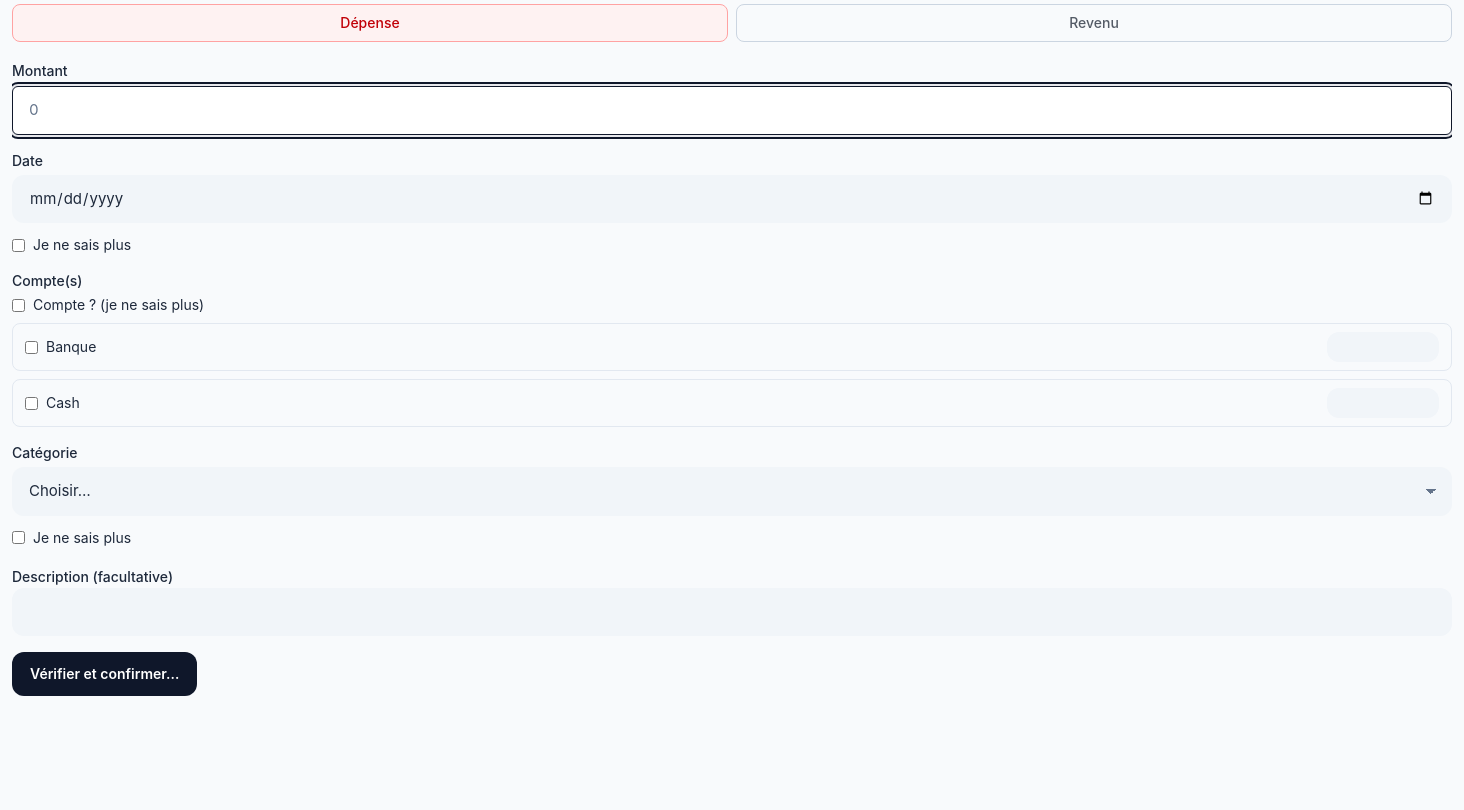
Test case: TransactionForm — activation d’une allocation de compte › réduire la part Banque puis cocher Cash pré-remplit le solde restant
Type "12000" into the field with placeholder "0" at (732, 110), box x1=12 y1=86 x2=1452 y2=134
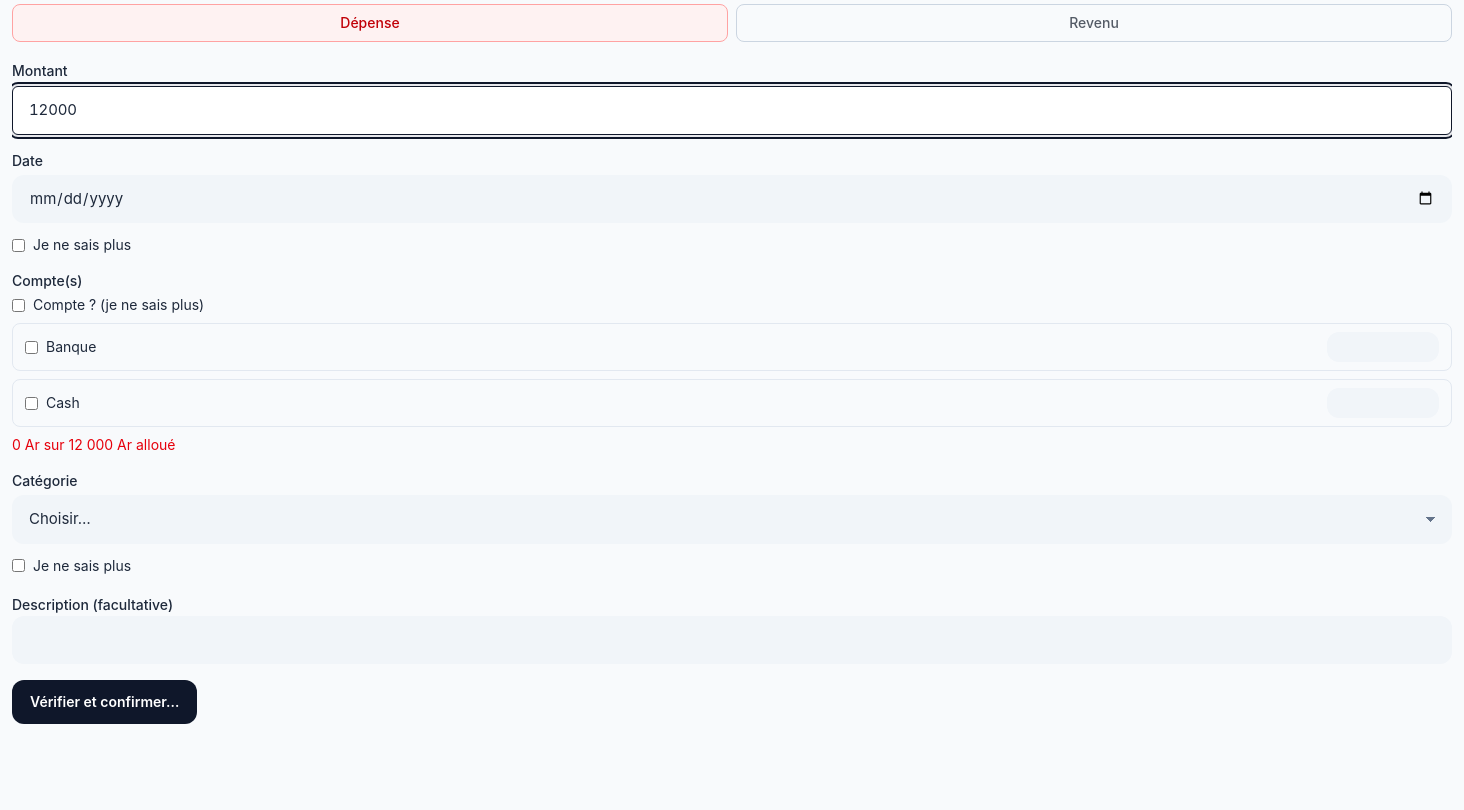
Click the checkbox named "Ajouter Banque" at (32, 347), box x1=25 y1=340 x2=38 y2=354
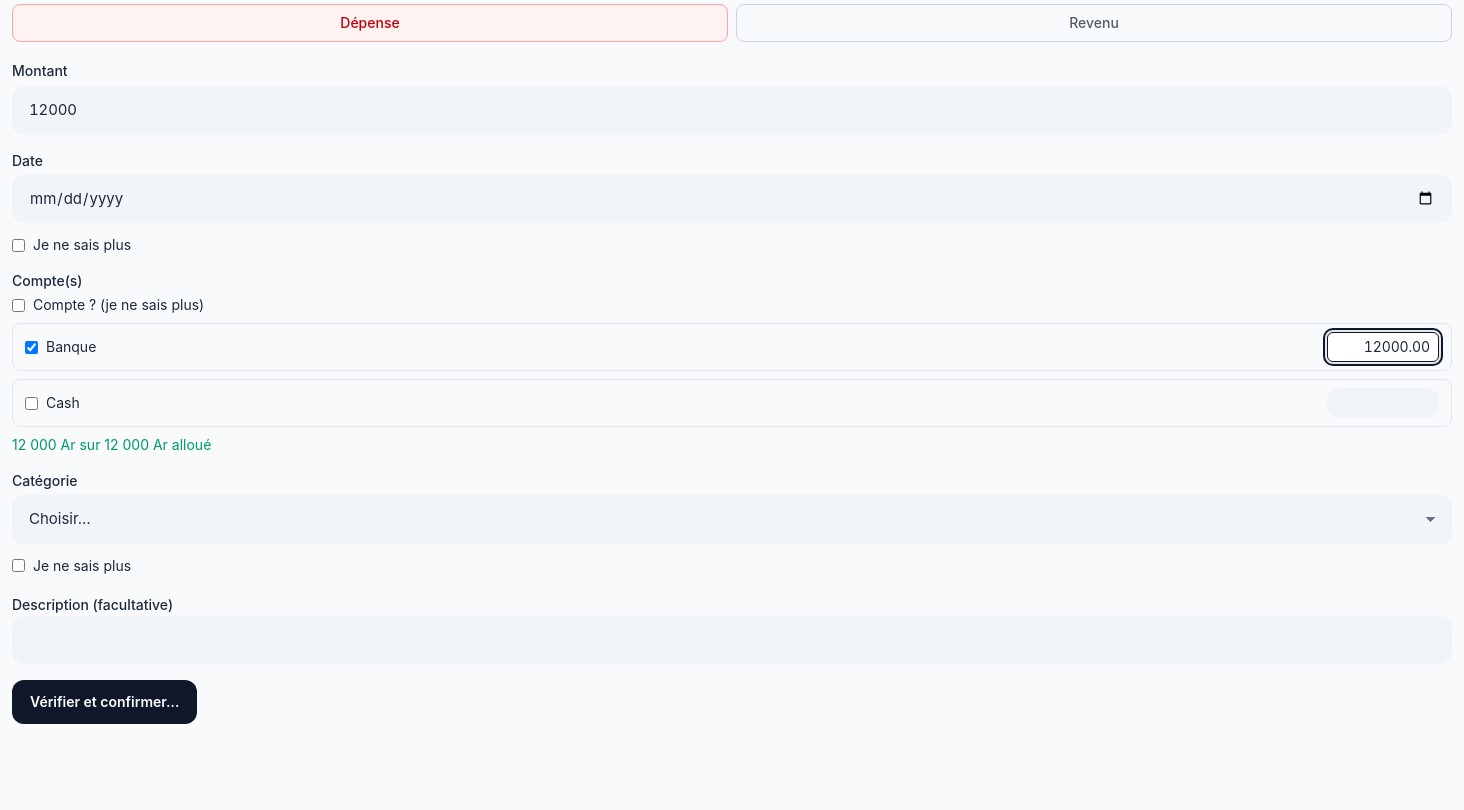
Type keys "{Control>}a{/Control}"
Type keys "6000"
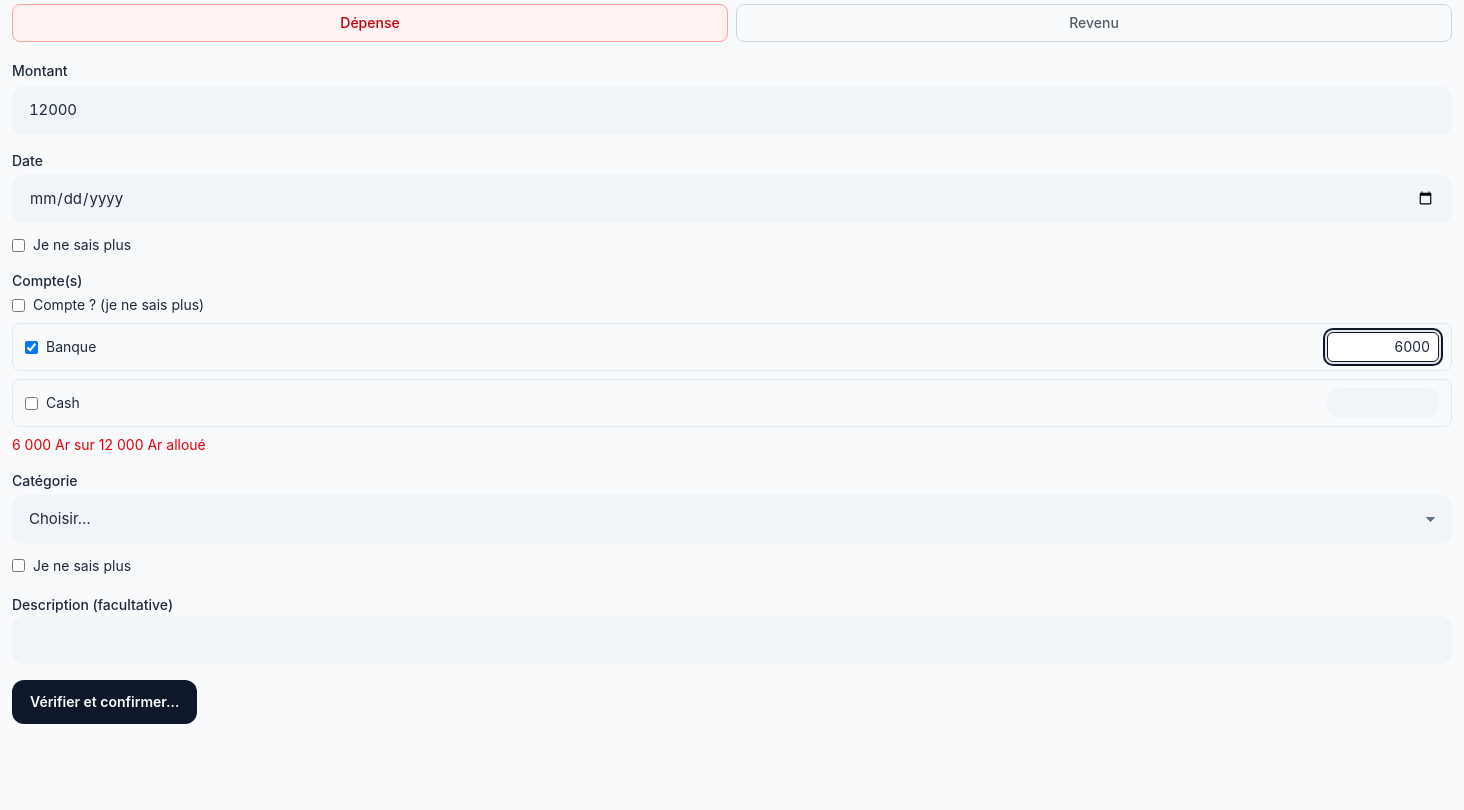
Click the checkbox named "Ajouter Cash" at (32, 403), box x1=25 y1=396 x2=38 y2=410
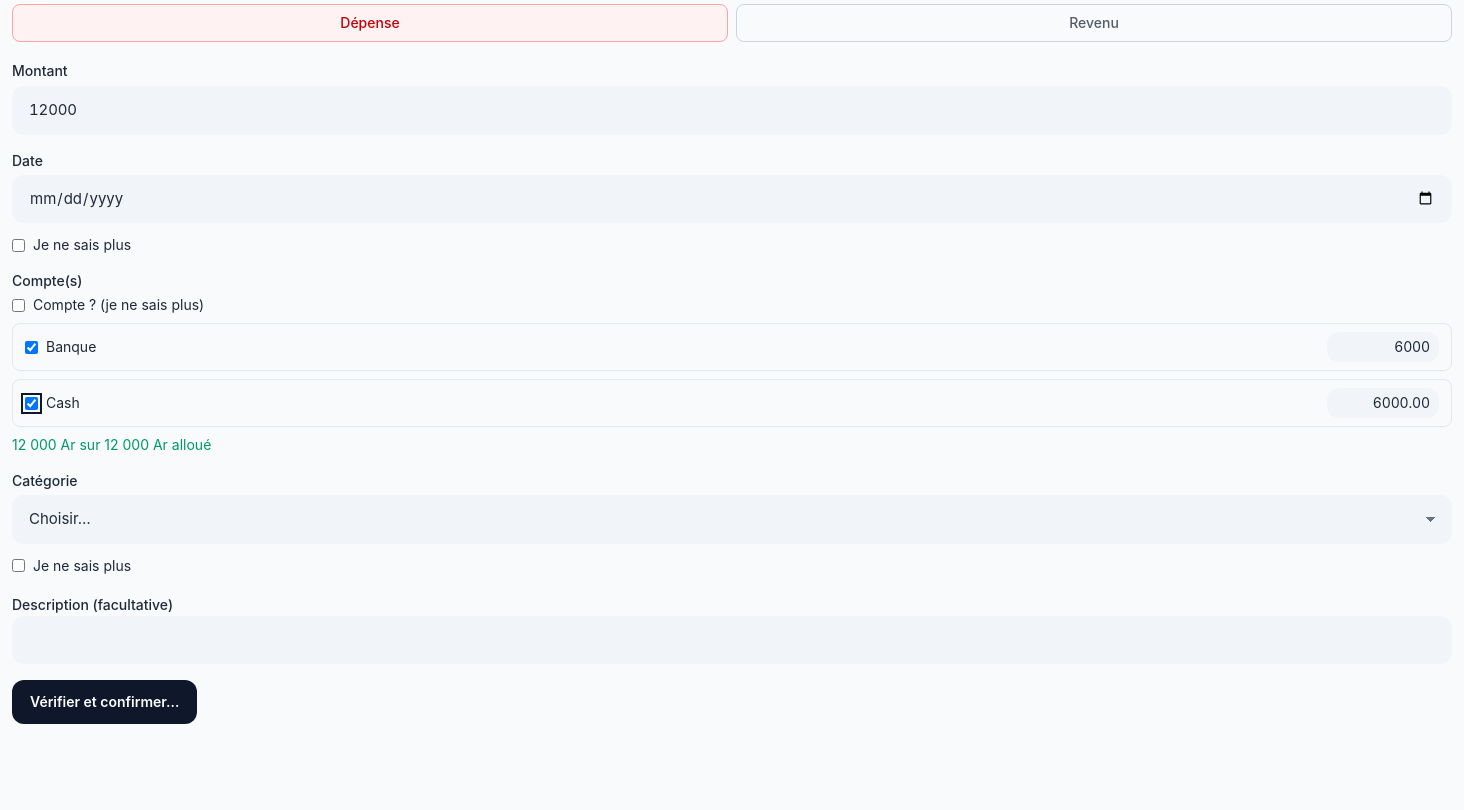
Expected: the field with placeholder "Montant…" in the row of "Cash" holds "6000.00", x1=1327 y1=388 x2=1439 y2=418
Expected: the field with placeholder "Montant…" in the row of "Cash" is enabled, x1=1327 y1=388 x2=1439 y2=418
